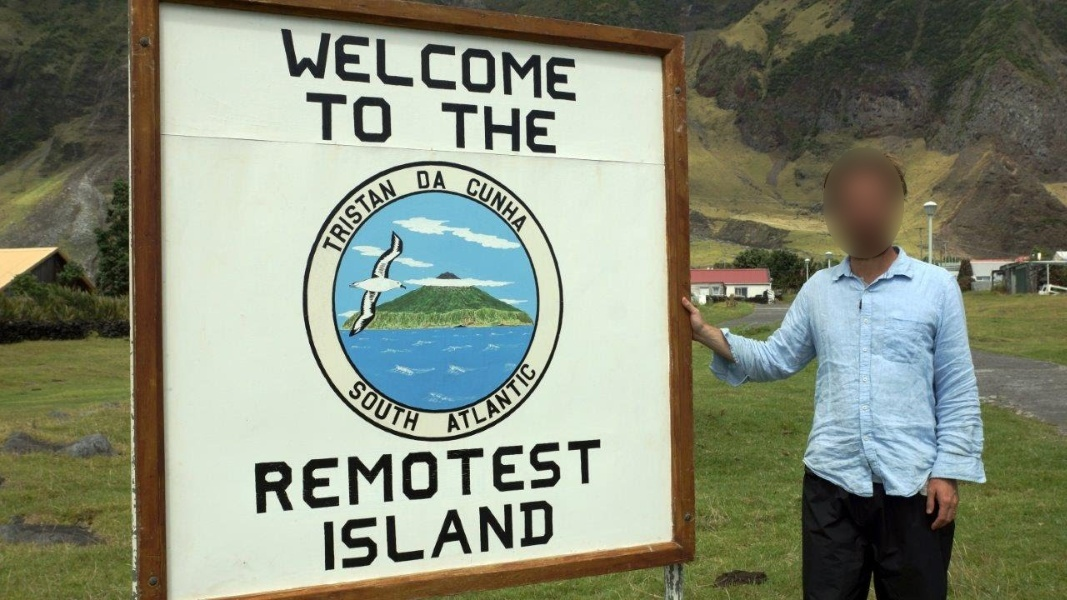text: (385, 171, 401, 259), (449, 356, 464, 446), (465, 356, 480, 446), (481, 356, 496, 446), (497, 356, 512, 446), (513, 356, 528, 446), (321, 171, 336, 259), (337, 171, 352, 259), (353, 171, 368, 259), (369, 171, 384, 259), (529, 356, 542, 446), (289, 26, 304, 101), (305, 26, 320, 101), (321, 26, 336, 101), (337, 26, 352, 101), (353, 26, 368, 101), (369, 26, 384, 101), (385, 26, 400, 101), (401, 26, 416, 101), (417, 26, 432, 101), (433, 26, 448, 101), (449, 26, 464, 101), (465, 26, 480, 101), (481, 26, 496, 101), (497, 26, 512, 101), (513, 26, 528, 101), (529, 26, 544, 101), (545, 26, 560, 101), (561, 26, 576, 101), (257, 439, 272, 514), (273, 439, 288, 514), (289, 439, 304, 514), (305, 439, 320, 514), (321, 439, 336, 514), (337, 439, 352, 514), (353, 439, 368, 514), (369, 439, 384, 514), (385, 439, 400, 514), (401, 439, 416, 514), (417, 439, 432, 514), (433, 439, 448, 514), (449, 439, 464, 514), (465, 439, 480, 514), (481, 439, 496, 514), (497, 439, 512, 514), (513, 439, 528, 514), (529, 439, 544, 514), (545, 439, 560, 514), (561, 439, 576, 514), (577, 439, 592, 514), (337, 499, 352, 571), (353, 499, 368, 571), (369, 499, 384, 571), (385, 499, 400, 571), (401, 499, 416, 571), (417, 499, 432, 571), (433, 499, 448, 571), (449, 499, 464, 571), (465, 499, 480, 571), (481, 499, 496, 571), (497, 499, 512, 571), (513, 499, 528, 571), (529, 499, 544, 571), (481, 171, 496, 236), (497, 171, 512, 236), (513, 171, 528, 236), (369, 379, 384, 440), (385, 379, 400, 440), (401, 379, 416, 440), (310, 171, 320, 259), (324, 499, 336, 571), (305, 90, 320, 146), (321, 90, 336, 146), (337, 90, 352, 146), (353, 90, 368, 146), (369, 90, 384, 146), (449, 101, 464, 156), (465, 101, 480, 156), (481, 101, 496, 156), (497, 101, 512, 156), (513, 101, 528, 156), (529, 101, 544, 156), (545, 101, 560, 156), (278, 26, 288, 101), (593, 439, 602, 514), (545, 499, 554, 571), (385, 90, 396, 146), (417, 379, 427, 440), (359, 379, 368, 440), (442, 356, 448, 446), (439, 101, 448, 156), (529, 171, 536, 236), (417, 170, 432, 191), (433, 170, 446, 191), (476, 171, 480, 236), (254, 439, 256, 514), (577, 26, 578, 101)
